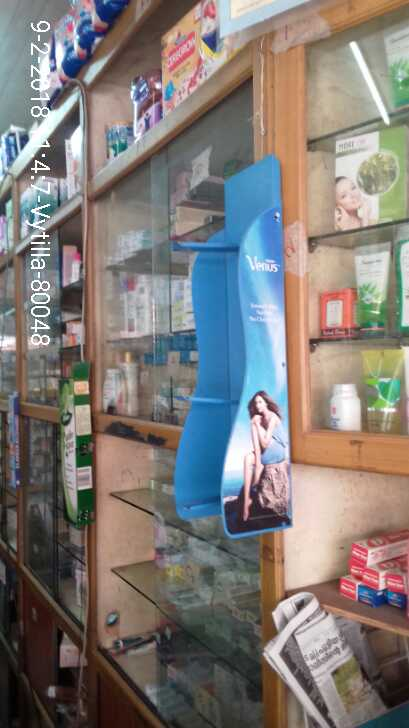reject: (158, 169, 259, 259)
